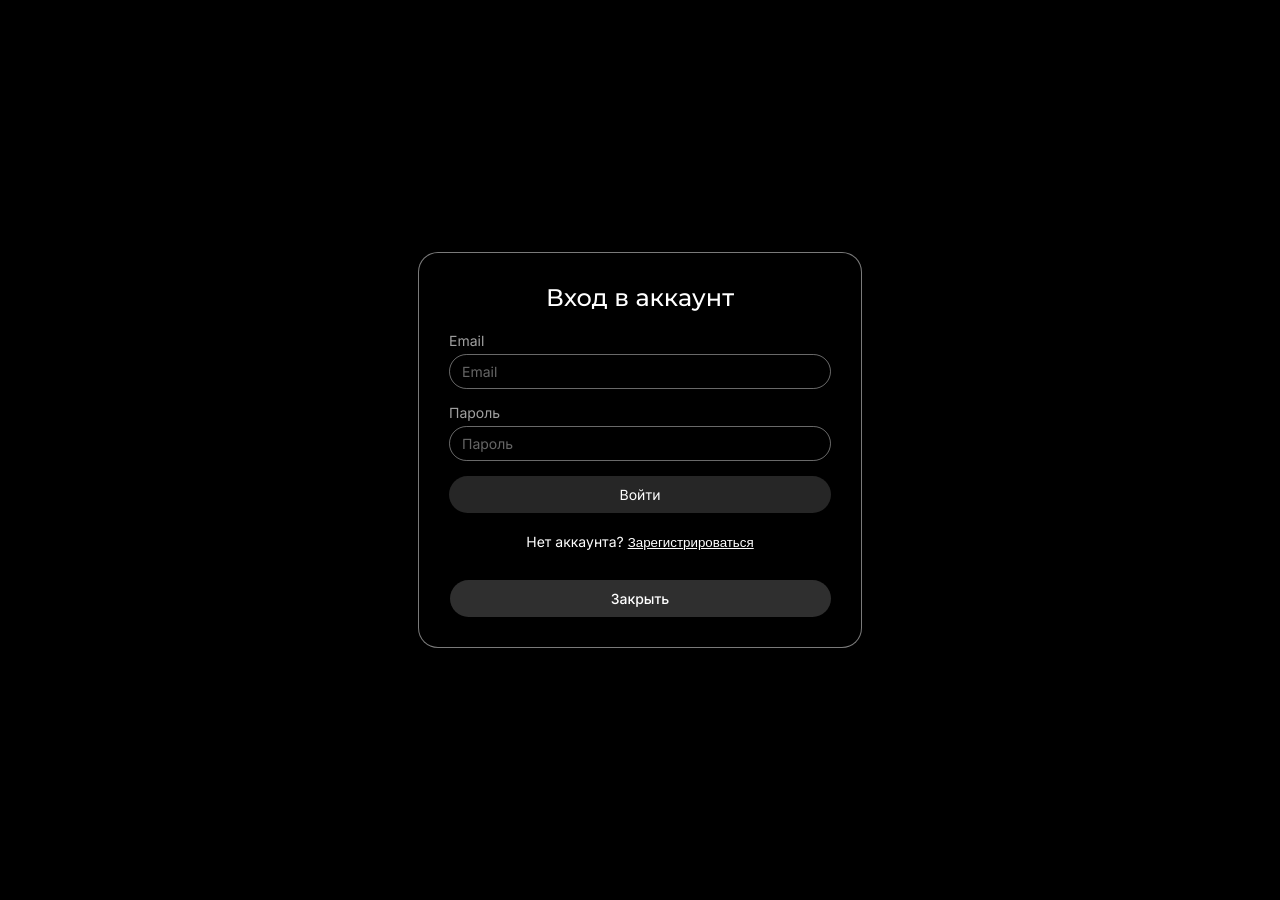
AuthModal › 5. Ошибка API (неверный логин)
The image size is (1280, 900).
Type "wrong@example.com" into the field with placeholder "Email" at (640, 372), box left=449, top=354, right=831, bottom=389
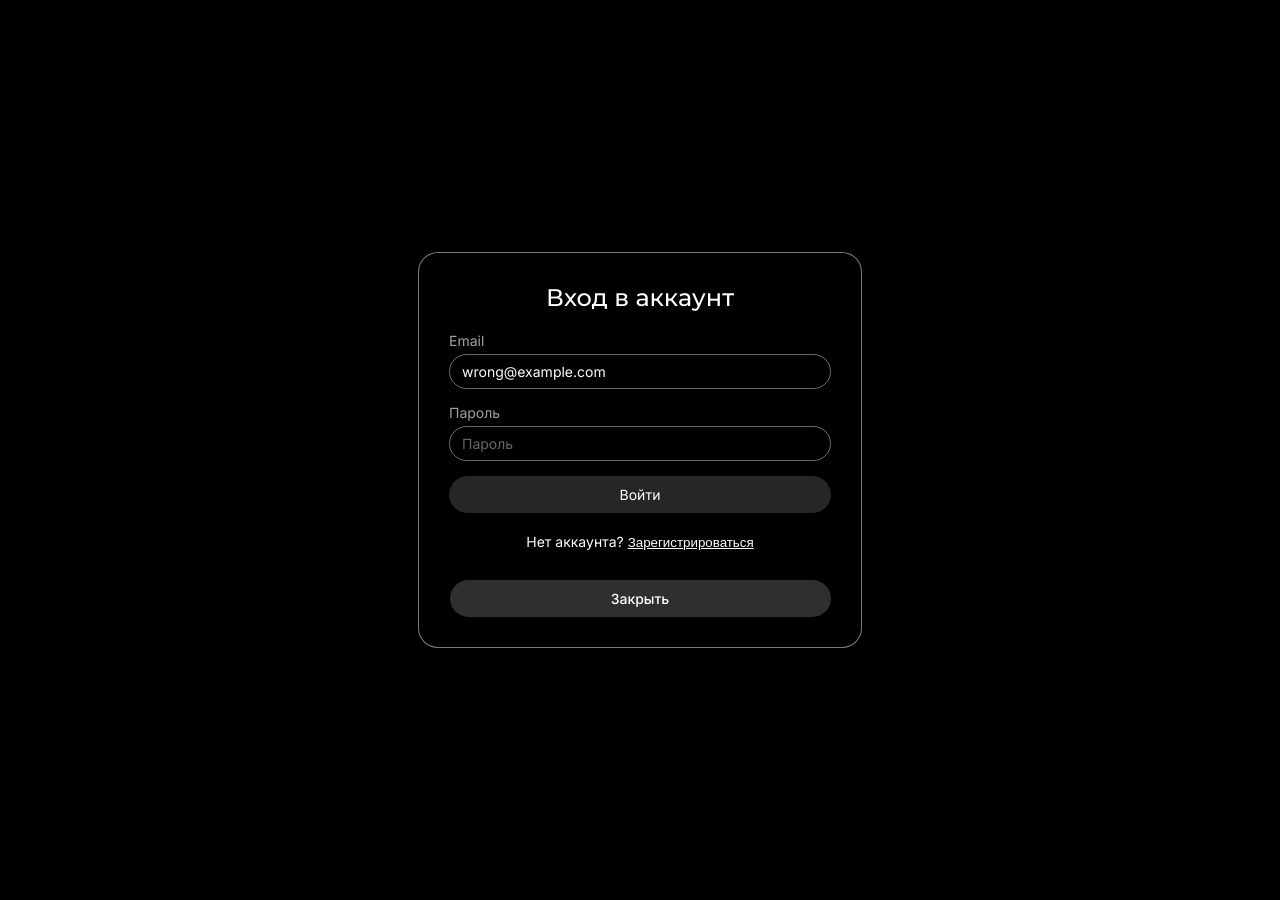
Type "123" into the password field with placeholder "Пароль" at (640, 444), box left=449, top=426, right=831, bottom=461
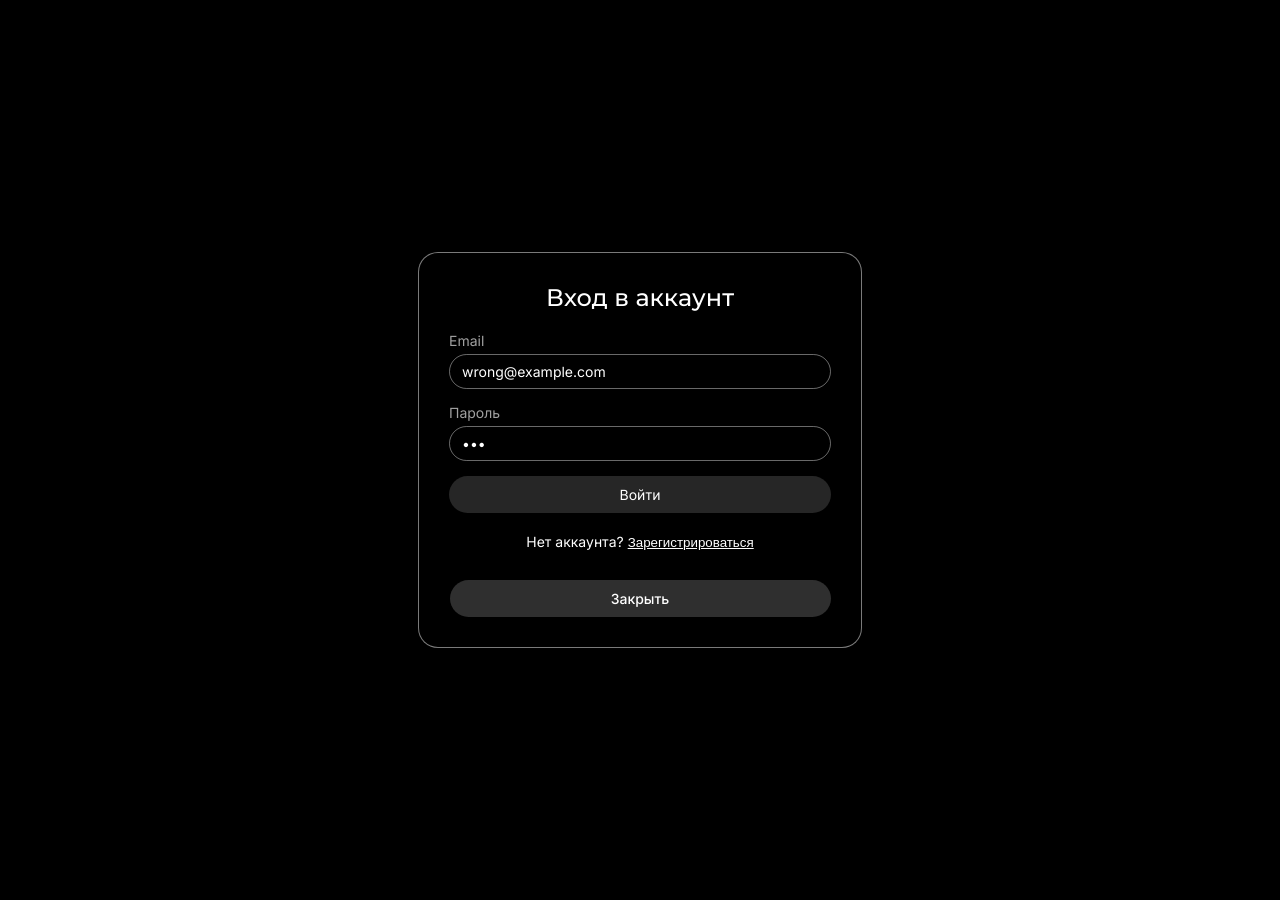
Click the button "Войти" at (640, 494), box left=449, top=476, right=831, bottom=513
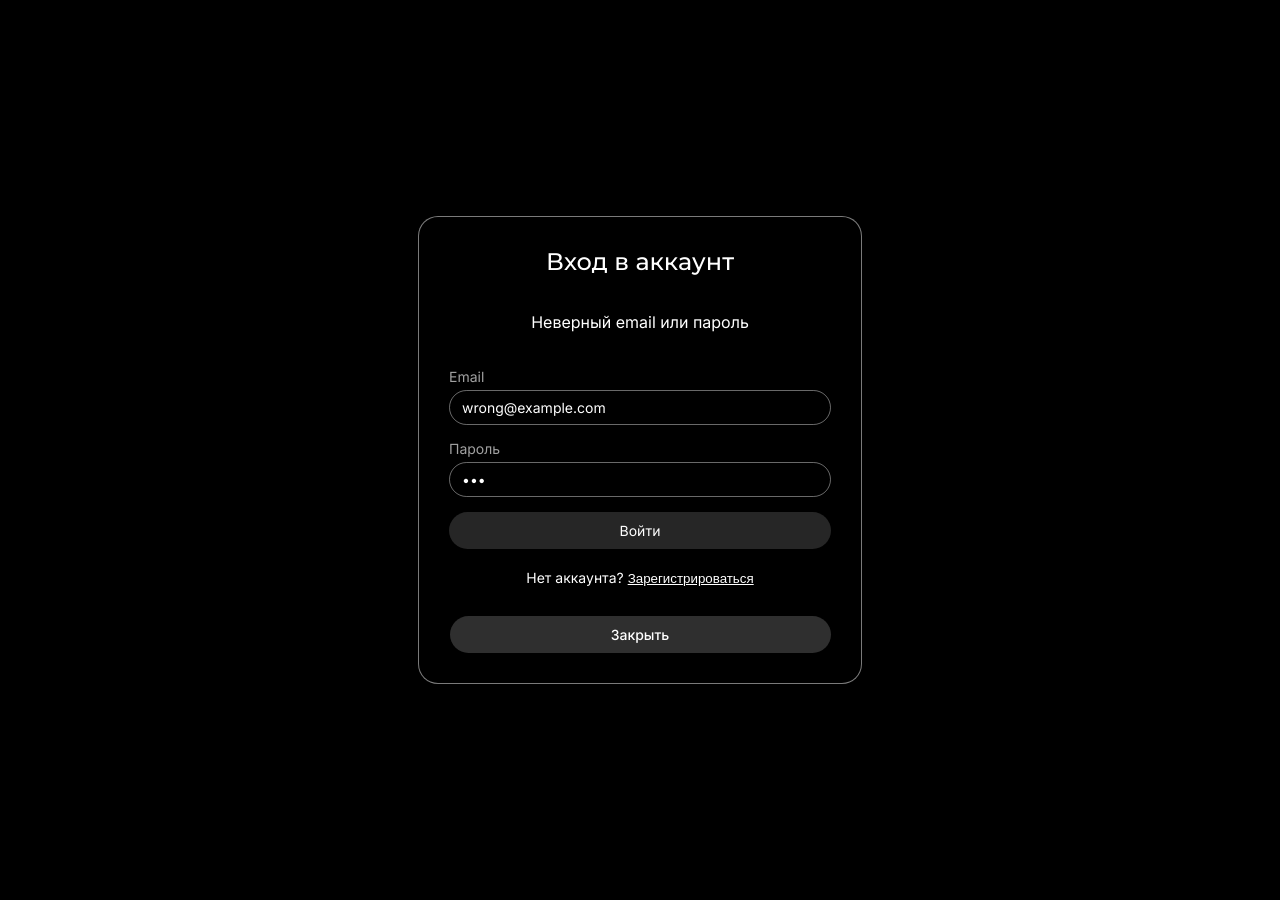
Check: the text "Неверный email или пароль" is shown, box left=531, top=312, right=749, bottom=332
